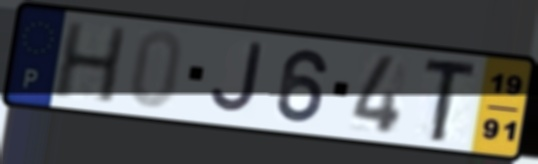0: (126, 27, 188, 112)
4: (350, 52, 405, 136)
6: (274, 45, 331, 126)
H: (49, 20, 130, 107)
J: (207, 40, 266, 118)
T: (420, 58, 482, 145)
